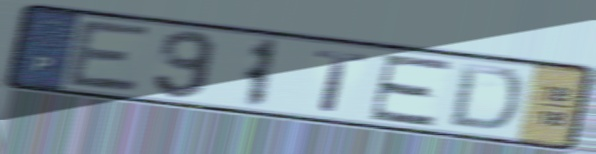1: (244, 35, 284, 111)
9: (152, 28, 220, 102)
D: (445, 60, 526, 134)
E: (63, 17, 156, 96), (364, 53, 457, 129)
T: (312, 47, 372, 115)
